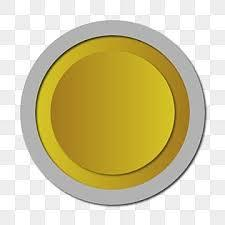yellow_circle: (32, 33, 198, 194)
